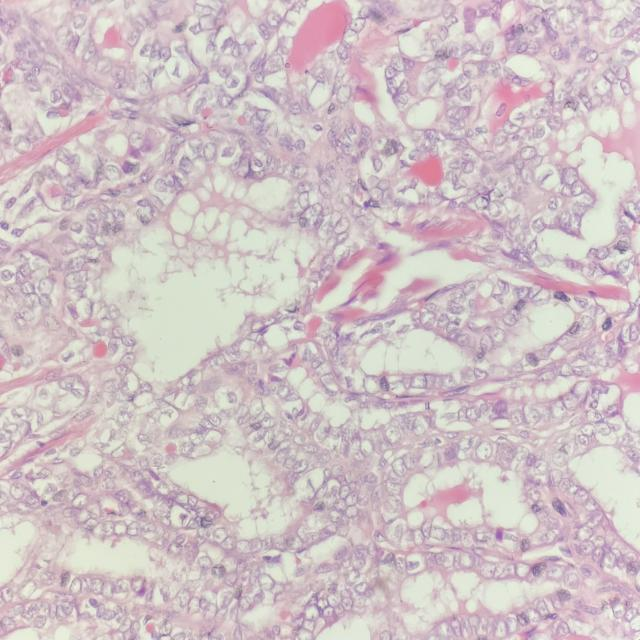TC: (121, 379, 164, 419), (292, 199, 328, 235), (236, 392, 272, 428), (58, 266, 94, 297), (359, 363, 385, 405), (553, 156, 584, 191), (52, 143, 83, 176), (408, 362, 433, 400), (438, 437, 466, 470), (379, 418, 407, 450), (513, 138, 539, 169), (467, 399, 489, 434), (474, 326, 496, 358), (408, 410, 433, 438), (500, 303, 524, 332), (474, 436, 494, 465), (418, 307, 439, 333), (335, 480, 357, 503), (289, 453, 310, 476), (289, 427, 310, 449), (391, 455, 408, 482), (509, 405, 526, 431), (527, 406, 544, 431), (464, 277, 482, 299), (443, 316, 461, 337), (206, 410, 226, 427)
